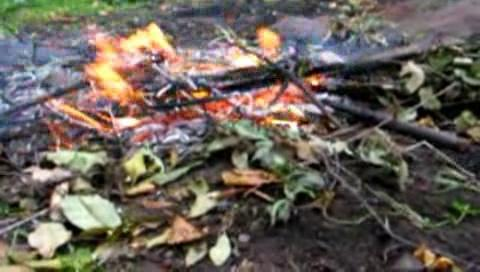fire: (80, 32, 173, 104)
